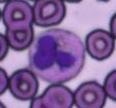N: (28, 28, 86, 82)
